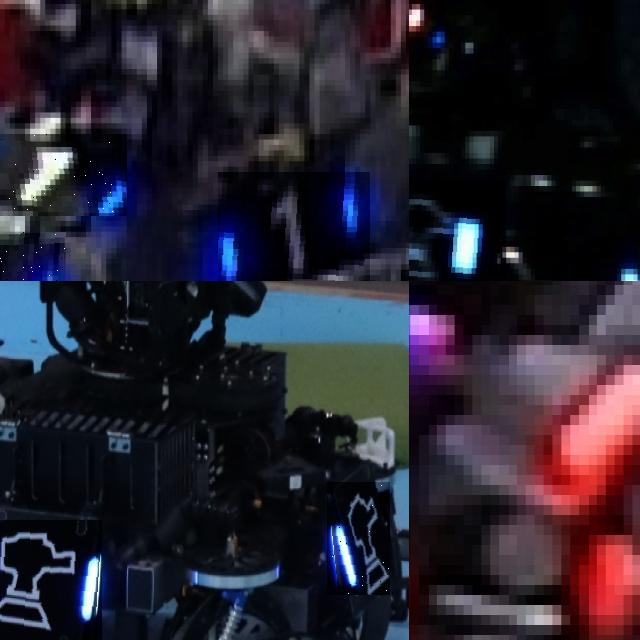B1: (217, 172, 370, 281), (0, 134, 126, 215)
Bs: (0, 520, 102, 640), (409, 180, 506, 281), (327, 482, 390, 595)
